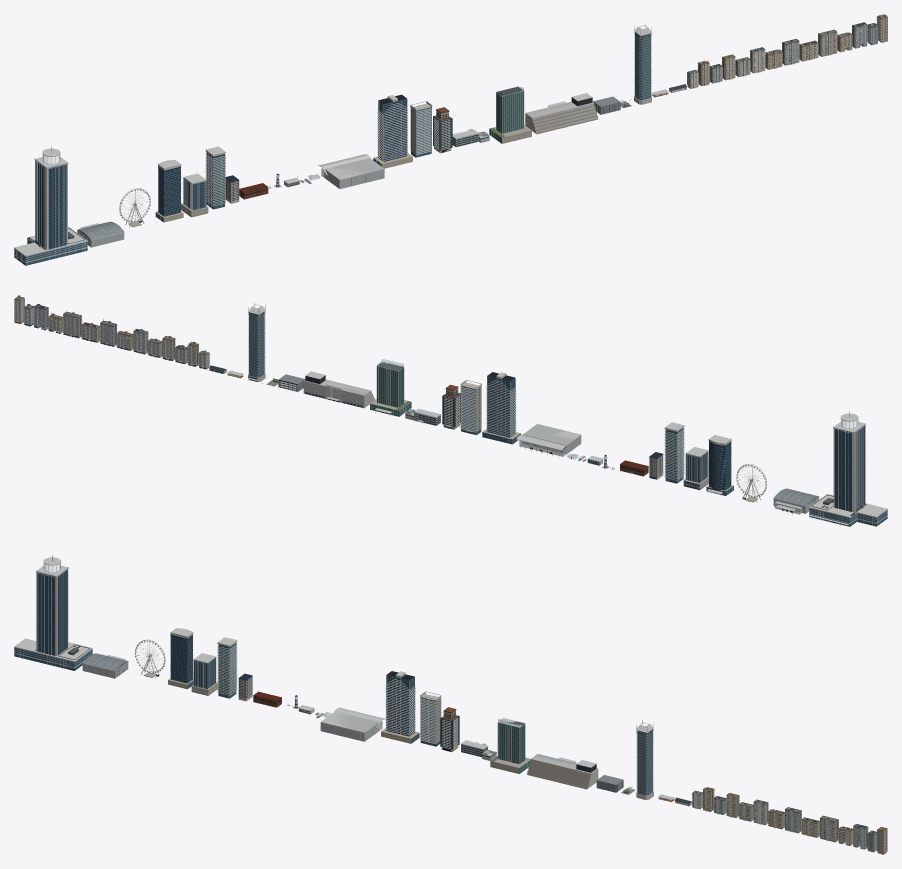
File: mcenter.glb
3 views of the same model, one above another, from view 1: azimuth 30°, elevation 25°; view 2: azimuth 150°, elevation 25°; view 3: azimuth 330°, elevation 25° (orthographic). The views are drawn at different scales.
Parts seen in each view (by area): view 1: mcenter_tower_body, mcenter_rhotel_body, mcenter_mall_body, mcenter_chotel_body, mcenter_convention_body, mcenter_hotel_body, mcenter_btow_body, mcenter_resi_body, mcenter_rtowa_body, mcenter_office_body, mcenter_hall_body, mcenter_rtowb_body (+1 smaller); view 2: mcenter_tower_body, mcenter_rhotel_body, mcenter_chotel_body, mcenter_mall_body, mcenter_convention_body, mcenter_hotel_body, mcenter_btow_body, mcenter_resi_body, mcenter_rtowa_body, mcenter_office_body, mcenter_hall_body, mcenter_rtowb_body (+1 smaller); view 3: mcenter_tower_body, mcenter_rhotel_body, mcenter_mall_body, mcenter_chotel_body, mcenter_convention_body, mcenter_hotel_body, mcenter_btow_body, mcenter_resi_body, mcenter_rtowa_body, mcenter_office_body, mcenter_hall_body, mcenter_rtowb_body.
Part boxes in pixels (x1,y1,x2,y2): mcenter_tower_body: (14,146,87,265); mcenter_rhotel_body: (373,94,412,168); mcenter_mall_body: (525,93,598,134); mcenter_chotel_body: (489,86,531,143); mcenter_convention_body: (318,154,384,188); mcenter_hotel_body: (155,160,183,222); mcenter_btow_body: (634,23,652,104); mcenter_resi_body: (205,146,225,209); mcenter_rtowa_body: (410,101,432,157); mcenter_office_body: (181,173,208,217); mcenter_hall_body: (77,221,124,247); mcenter_rtowb_body: (433,107,452,153); mcenter_tower_body: (809,411,887,526); mcenter_rhotel_body: (482,372,520,444); mcenter_chotel_body: (370,359,411,416); mcenter_mall_body: (303,371,374,408); mcenter_convention_body: (516,424,581,457); mcenter_hotel_body: (706,435,733,496); mcenter_btow_body: (248,302,265,381); mcenter_resi_body: (664,422,684,483); mcenter_rtowa_body: (460,380,481,435); mcenter_office_body: (683,447,708,490); mcenter_hall_body: (773,488,819,514); mcenter_rtowb_body: (442,384,460,429); mcenter_tower_body: (14,555,92,670); mcenter_rhotel_body: (381,671,419,743); mcenter_mall_body: (526,754,598,789); mcenter_chotel_body: (490,718,530,773); mcenter_convention_body: (320,707,385,741); mcenter_hotel_body: (168,628,193,689); mcenter_btow_body: (636,720,653,799); mcenter_resi_body: (217,637,237,698); mcenter_rtowa_body: (420,691,441,746); mcenter_office_body: (191,653,218,695); mcenter_hall_body: (82,653,128,678); mcenter_rtowb_body: (440,707,459,751).
Size of the model in its own units: 1755 by 204 by 73.3.
